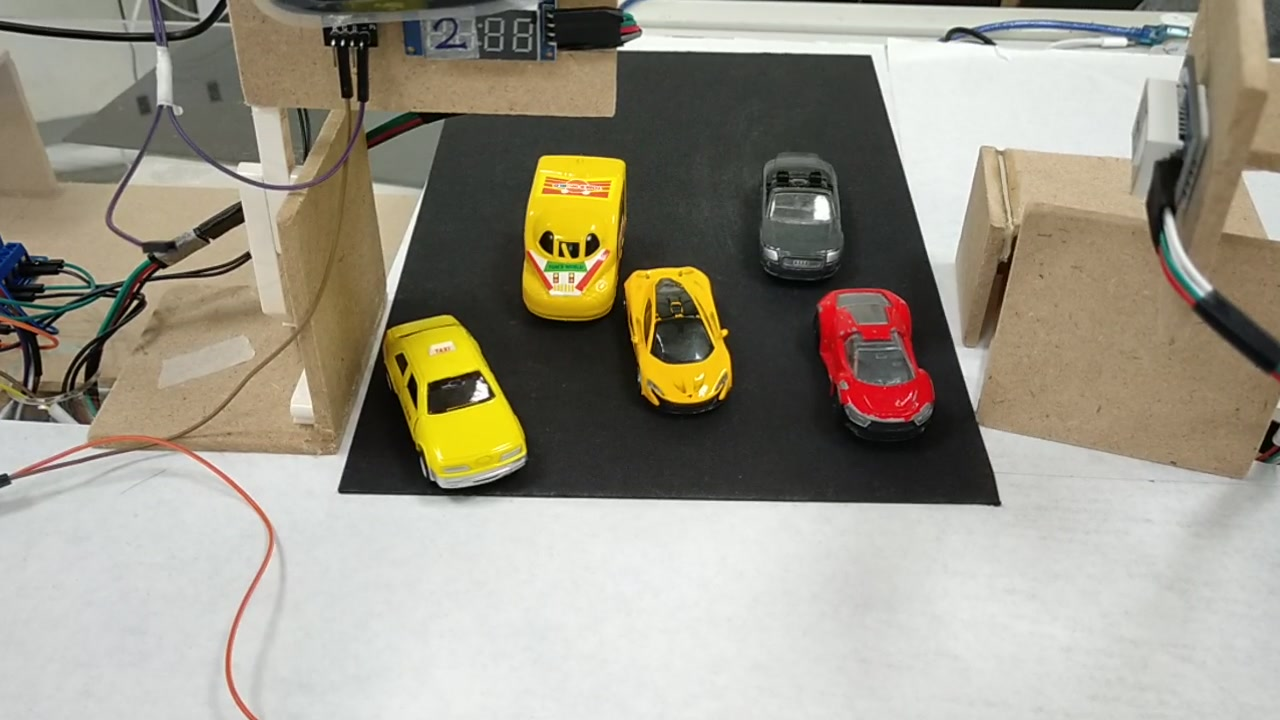car: (374, 327, 523, 484), (817, 283, 936, 441), (617, 270, 729, 412), (754, 162, 848, 279)
